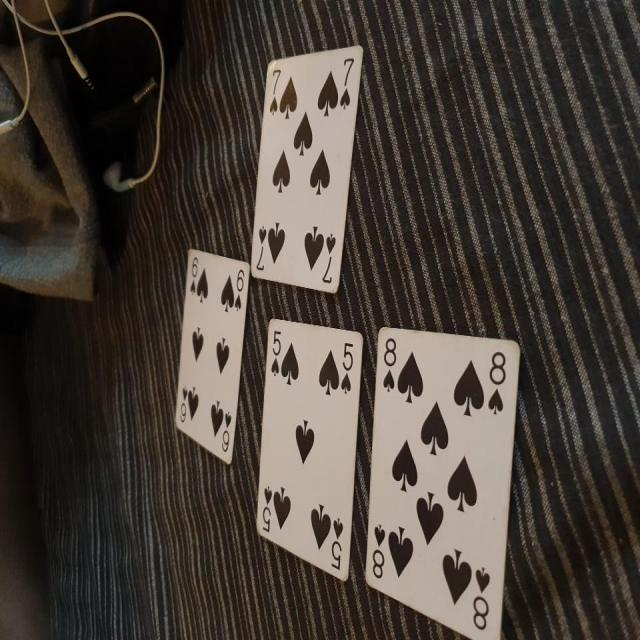5 Spades: (246, 314, 362, 591)
6 Spades: (169, 238, 252, 475)
7 Spades: (248, 38, 365, 300)
8 Spades: (360, 309, 523, 640)
